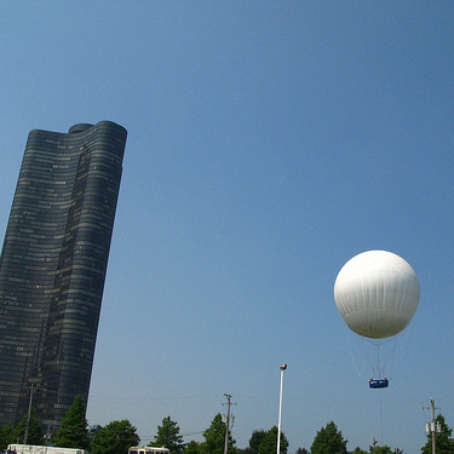baloon: (331, 242, 411, 401)
building: (1, 115, 136, 454)
sky: (100, 1, 454, 408)
